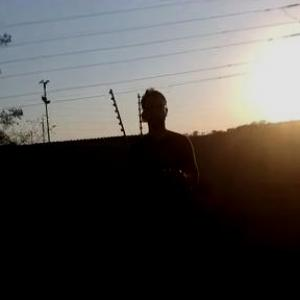follow: (127, 84, 204, 299)
